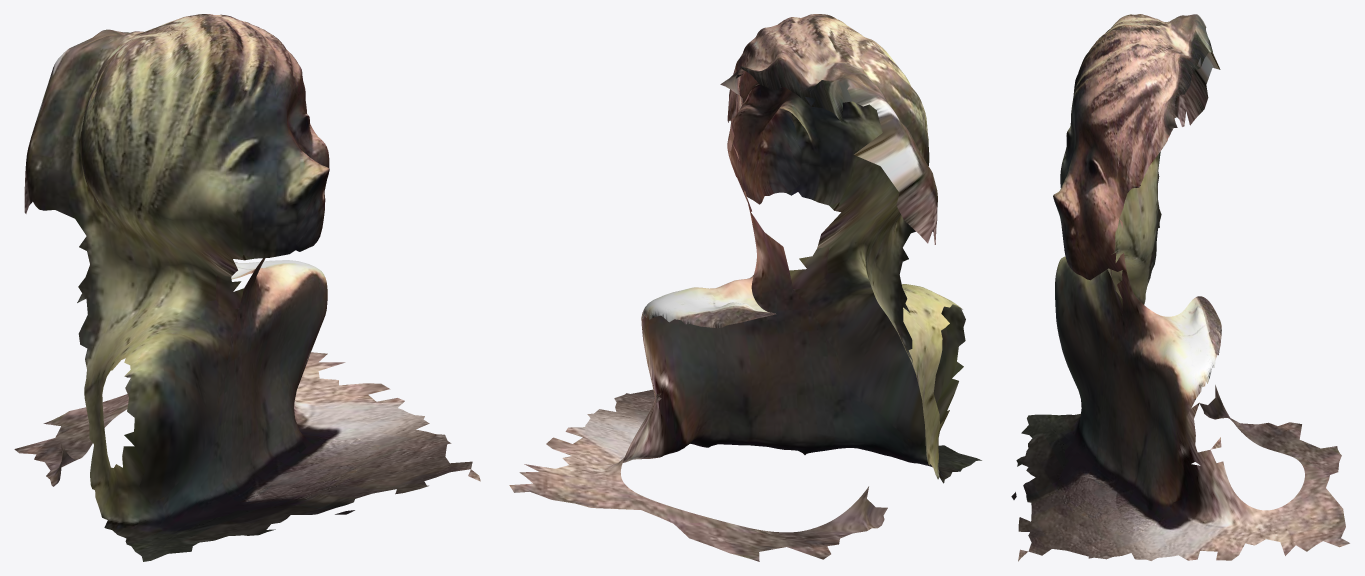
The model's file is krakerigeKop.glb.
3 renders of one model, left to right at view 1: azimuth 30°, elevation 25°; view 2: azimuth 150°, elevation 25°; view 3: azimuth 270°, elevation 25°, orthographic. The views are drawn at different scales.
Visible parts, largest first — view 1: krakerigeKop; view 2: krakerigeKop; view 3: krakerigeKop.
Part boxes in pixels (x1,y1,x2,y2): krakerigeKop: (14, 14, 480, 561); krakerigeKop: (509, 14, 981, 561); krakerigeKop: (1011, 14, 1349, 561).
Bounding box in the file's own units: 13.73 × 16.32 × 11.39.
Materials: 1 (1 with a texture image).
